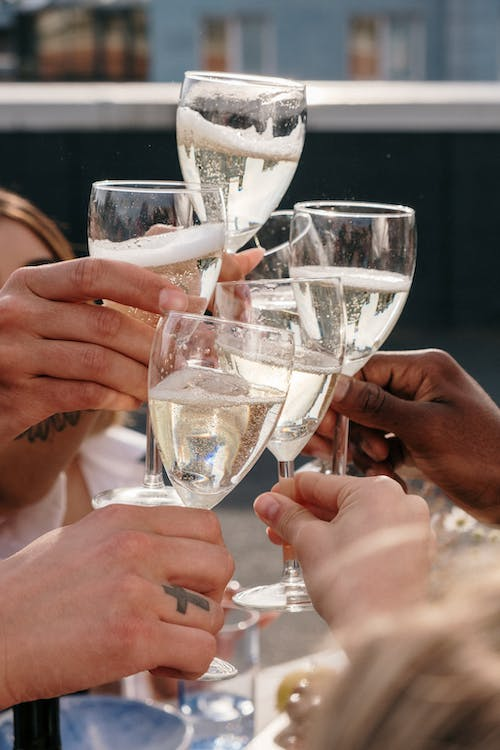alcohol: (146, 306, 295, 683), (86, 179, 228, 516), (212, 276, 348, 613), (287, 200, 420, 476), (173, 67, 308, 255)
